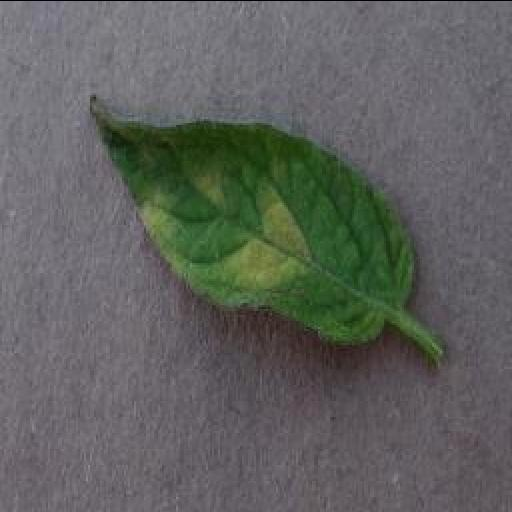disease_tomato: (87, 90, 417, 344)
